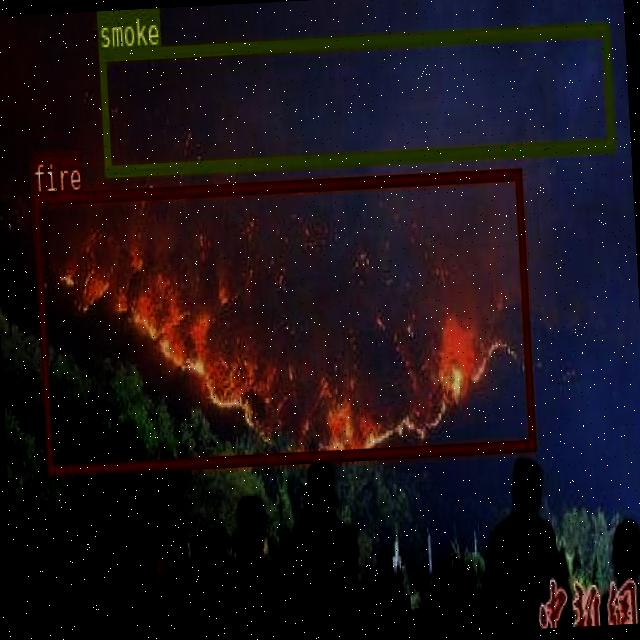fire: (32, 168, 534, 473)
smoke: (99, 21, 614, 176)
